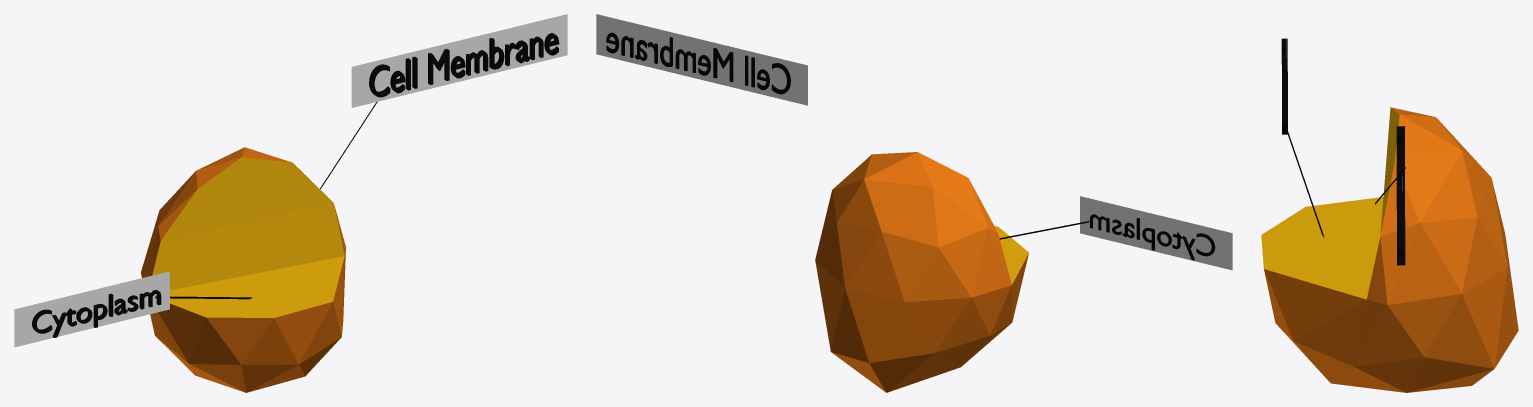
File: cytoplasm.gltf
3 views of the same model, side by side, from view 1: azimuth 30°, elevation 25°; view 2: azimuth 150°, elevation 25°; view 3: azimuth 270°, elevation 25° (orthographic). The views are drawn at different scales.
Visible parts, largest first — view 1: Icosphere, Plane.024, Plane.027, Text.022, Text.024; view 2: Icosphere, Plane.024, Plane.027, Text.022, Text.024; view 3: Icosphere, Text.022, Text.024, Plane.025.
Boxes of the visible parts, x1,y1,x2,y2 form: Icosphere: (141,147,345,392); Plane.024: (351,14,567,107); Plane.027: (14,271,169,347); Text.022: (369,33,559,97); Text.024: (32,290,161,337); Icosphere: (815,152,1028,392); Plane.024: (596,14,807,105); Plane.027: (1080,196,1232,270); Text.022: (606,32,790,94); Text.024: (1090,214,1215,260); Icosphere: (1261,107,1518,392); Text.022: (1396,126,1405,265); Text.024: (1281,38,1287,134); Plane.025: (1285,127,1324,237).
Size of the model in its own units: 3.71 by 1.69 by 1.14.
